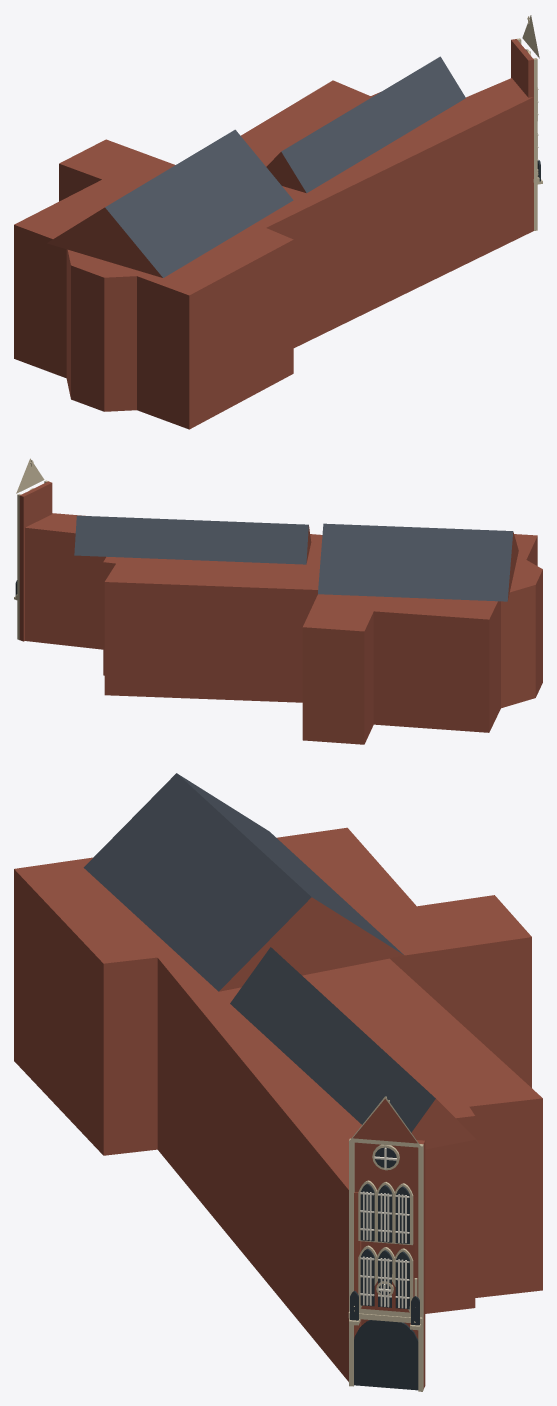
The model's file is de-papegaai.glb.
3 views of the same model, one above another, from view 1: azimuth 30°, elevation 25°; view 2: azimuth 150°, elevation 25°; view 3: azimuth 270°, elevation 25° (orthographic). The views are drawn at different scales.
Parts seen in each view (by area): view 1: de-papegaai; view 2: de-papegaai; view 3: de-papegaai.
Boxes of the visible parts, x1,y1,x2,y2 form: de-papegaai: (14,15,542,429); de-papegaai: (14,458,542,744); de-papegaai: (14,773,542,1391).
Bounding box in the file's own units: 49.49 × 18.08 × 29.45.
